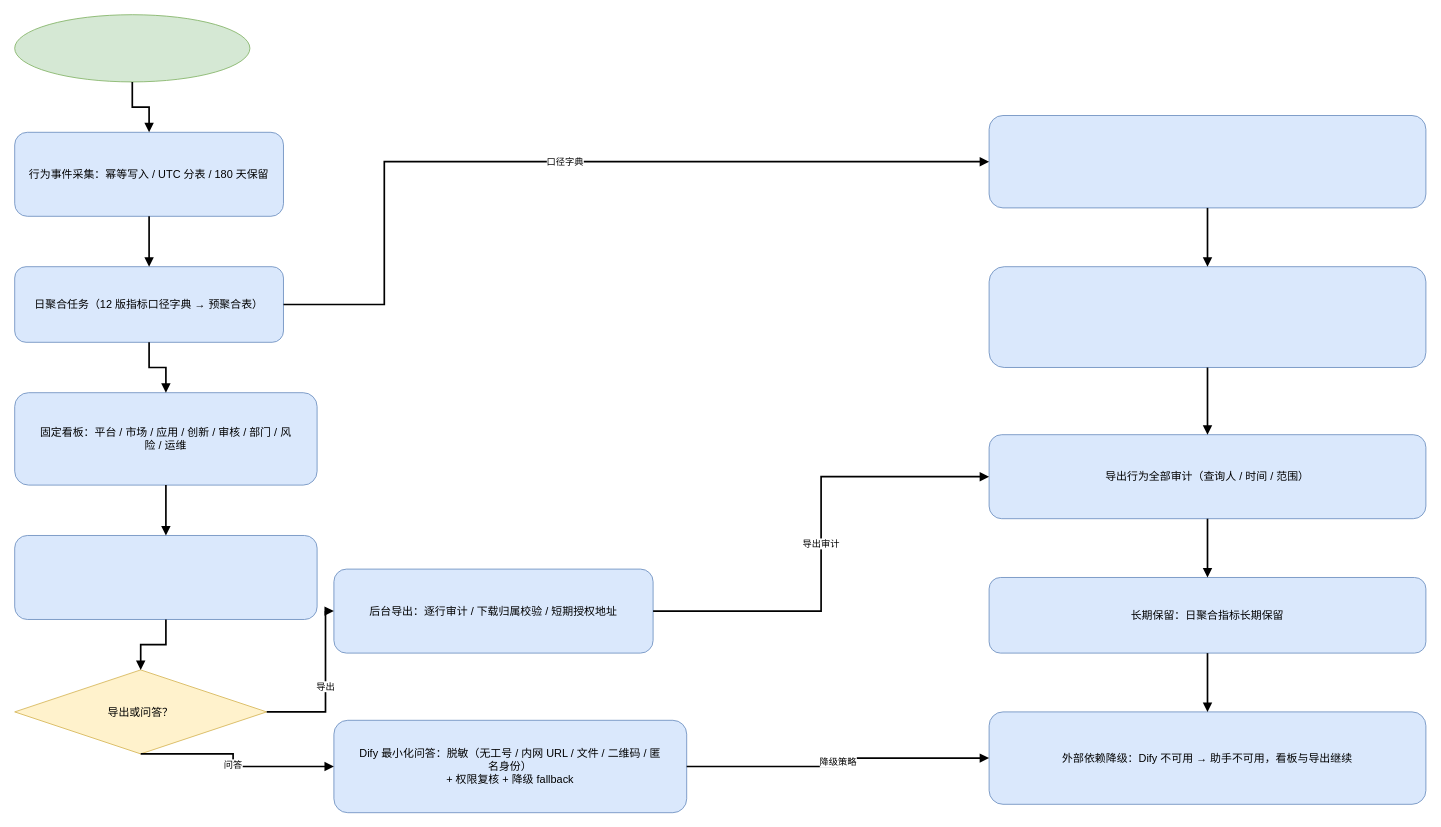
The diagram is 1441 pixels wide and 827 high, and some of its shapes have lost their labels. Each missing label, with the box of its shape:
指标口径字典（12 版，可重算）: (988, 115, 1426, 208)
权限控制：责任人仅聚合数据，禁止查看个人访问名单: (14, 535, 317, 620)
用户行为产生（浏览 / 跳转 / 下载 / 二维码 展示）: (14, 14, 250, 82)
看板图表：折线 / 横向柱状 / 漏斗 / 热力 空状态与表格替代视图: (988, 266, 1426, 368)
